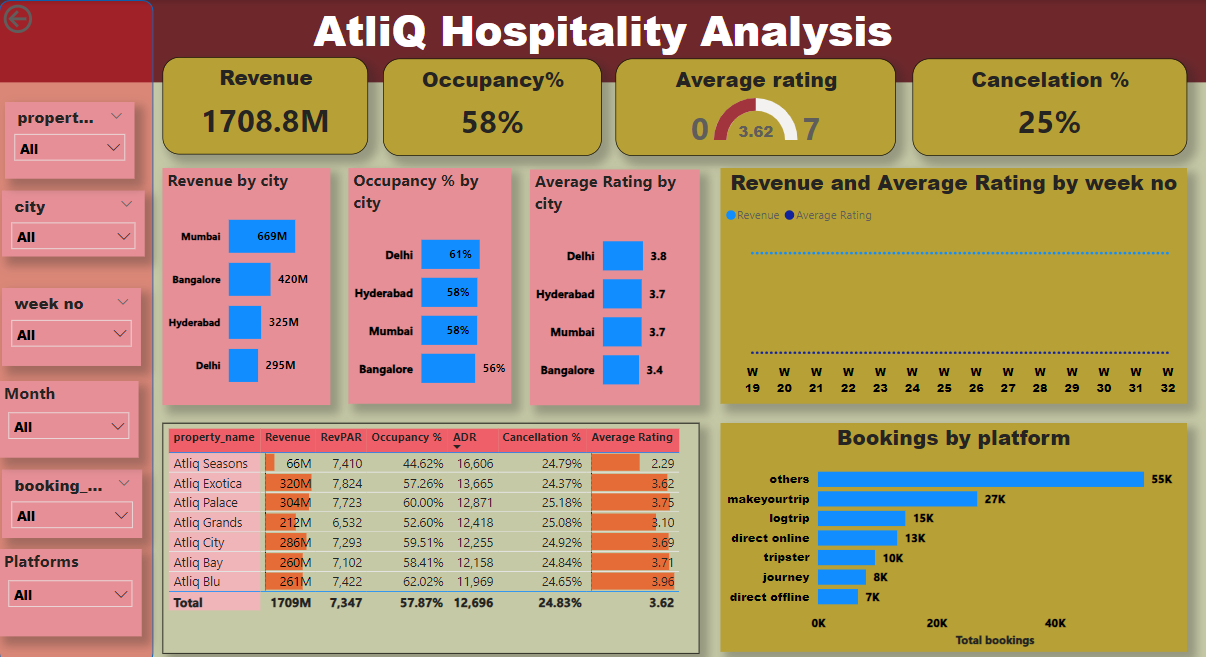

Layout of this report page (visuals, bound fields, positions):
{"tool":"powerbi","page":{"name":"Page 1","canvas":[1280,720],"ordinal":0},"visuals":[{"type":"shape","box":[0,0,1280.4,87.5],"z":0},{"type":"shape","box":[0,0,163.8,704.6],"z":1000},{"type":"slicer","fields":{"Values":["dim_hotels.city"]},"box":[3.2,202,151.1,70],"z":2000},{"type":"tableEx","fields":{"Values":["dim_hotels.property_name","key_measures.Revenue","key_measures.RevPAR","key_measures.Occupancy %","key_measures.Average daily rate","key_measures.Cancellation %","key_measures.Average Rating"]},"box":[173.4,448.6,569.4,245],"z":3000},{"type":"slicer","fields":{"Values":["dim_date.week no"]},"box":[2.9,305.7,147.1,82.9],"z":4000},{"type":"card","title":"Revenue","fields":{"Values":["key_measures.Revenue"]},"box":[173.4,60.4,217.9,103.4],"z":5000},{"type":"card","title":"Occupancy%","fields":{"Values":["key_measures.Occupancy %"]},"box":[407.2,62,232.2,103.4],"z":6000},{"type":"gauge","title":"Average rating ","fields":{"Y":["key_measures.Average Rating"]},"box":[653.7,62,297.4,103.4],"z":7000},{"type":"card","title":"Cancelation %","fields":{"Values":["key_measures.Cancellation %"]},"box":[968.7,62,291.1,103.4],"z":8000},{"type":"slicer","fields":{"Values":["dim_hotels.property_name"]},"box":[7.1,108.6,137.1,81.4],"z":9000},{"type":"slicer","fields":{"Values":["fact_bookings.booking_status"]},"box":[2.9,497.1,148.6,72.9],"z":10000},{"type":"slicer","title":"Platforms ","fields":{"Values":["fact_bookings.booking_platform"]},"box":[0,582.9,151.4,92.9],"z":11000},{"type":"barChart","fields":{"Category":["dim_hotels.city"],"Y":["key_measures.Revenue"]},"box":[173.4,178.1,178.1,251.3],"z":12000},{"type":"barChart","fields":{"Category":["dim_hotels.city"],"Y":["key_measures.Occupancy %"]},"box":[371.3,178.3,172.8,250],"z":13000},{"type":"barChart","fields":{"Category":["dim_hotels.city"],"Y":["key_measures.Average Rating"]},"box":[562.5,180.1,180.1,250],"z":14000},{"type":"barChart","title":"Bookings by platform","fields":{"Category":["fact_bookings.booking_platform"],"Y":["key_measures.Total bookings"]},"box":[764.7,448.5,494.5,242.6],"z":15000},{"type":"slicer","title":"Month","fields":{"Values":["dim_date.mmm yy"]},"box":[0,404,147.9,81.1],"z":16000},{"type":"actionButton","box":[0,0,100,40],"z":17000},{"type":"areaChart","fields":{"Category":["dim_date.week no"],"Y":["key_measures.Revenue","key_measures.Average Rating"]},"box":[765.1,178.1,494.7,249.7],"z":18000}]}

Visuals, with their boxes on the page's 1280x720 design canvas (x1, y1, x2, y2). These are canvas units, not pixel positions in the 1206x657 screenshot, which may show the page scaled, cropped or inside an application window:
shape: {"left": 0, "top": 0, "right": 1280, "bottom": 88}
shape: {"left": 0, "top": 0, "right": 164, "bottom": 705}
slicer - dim_hotels.city: {"left": 3, "top": 202, "right": 154, "bottom": 272}
tableEx - dim_hotels.property_name x key_measures.Revenue: {"left": 173, "top": 449, "right": 743, "bottom": 694}
slicer - dim_date.week no: {"left": 3, "top": 306, "right": 150, "bottom": 389}
"Revenue" card: {"left": 173, "top": 60, "right": 391, "bottom": 164}
"Occupancy%" card: {"left": 407, "top": 62, "right": 639, "bottom": 165}
"Average rating " gauge: {"left": 654, "top": 62, "right": 951, "bottom": 165}
"Cancelation %" card: {"left": 969, "top": 62, "right": 1260, "bottom": 165}
slicer - dim_hotels.property_name: {"left": 7, "top": 109, "right": 144, "bottom": 190}
slicer - fact_bookings.booking_status: {"left": 3, "top": 497, "right": 152, "bottom": 570}
"Platforms " slicer: {"left": 0, "top": 583, "right": 151, "bottom": 676}
barChart - dim_hotels.city x key_measures.Revenue: {"left": 173, "top": 178, "right": 352, "bottom": 429}
barChart - dim_hotels.city x key_measures.Occupancy %: {"left": 371, "top": 178, "right": 544, "bottom": 428}
barChart - dim_hotels.city x key_measures.Average Rating: {"left": 562, "top": 180, "right": 743, "bottom": 430}
"Bookings by platform" barChart: {"left": 765, "top": 448, "right": 1259, "bottom": 691}
"Month" slicer: {"left": 0, "top": 404, "right": 148, "bottom": 485}
actionButton: {"left": 0, "top": 0, "right": 100, "bottom": 40}
areaChart - dim_date.week no x key_measures.Revenue: {"left": 765, "top": 178, "right": 1260, "bottom": 428}
